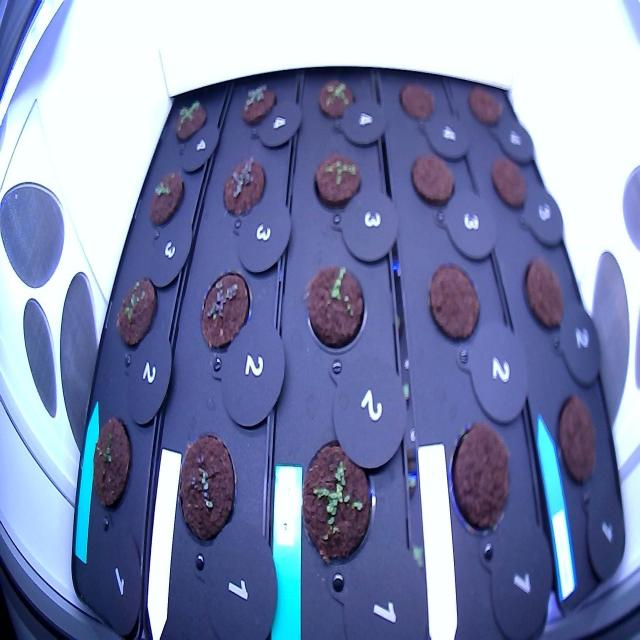germination: (294, 428, 380, 576), (173, 423, 242, 556), (298, 256, 372, 363), (195, 262, 255, 358), (308, 146, 365, 220), (218, 146, 272, 224), (110, 273, 161, 354), (145, 166, 188, 232), (313, 75, 362, 126), (237, 78, 280, 133), (170, 92, 210, 148)
pod: (443, 412, 516, 544), (86, 411, 142, 523), (550, 386, 604, 495), (426, 258, 484, 353), (518, 251, 572, 342), (408, 148, 460, 219), (486, 152, 532, 214), (462, 79, 508, 134), (394, 76, 440, 130)
